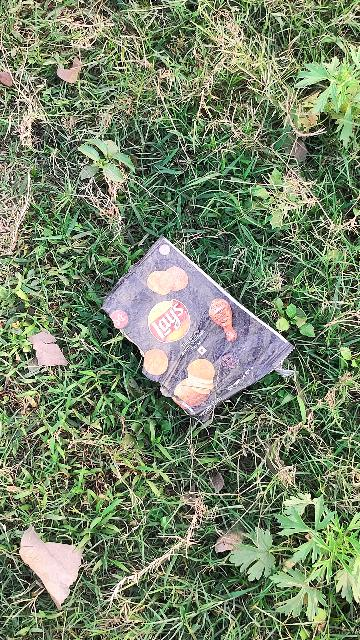packet: (82, 216, 305, 438)
